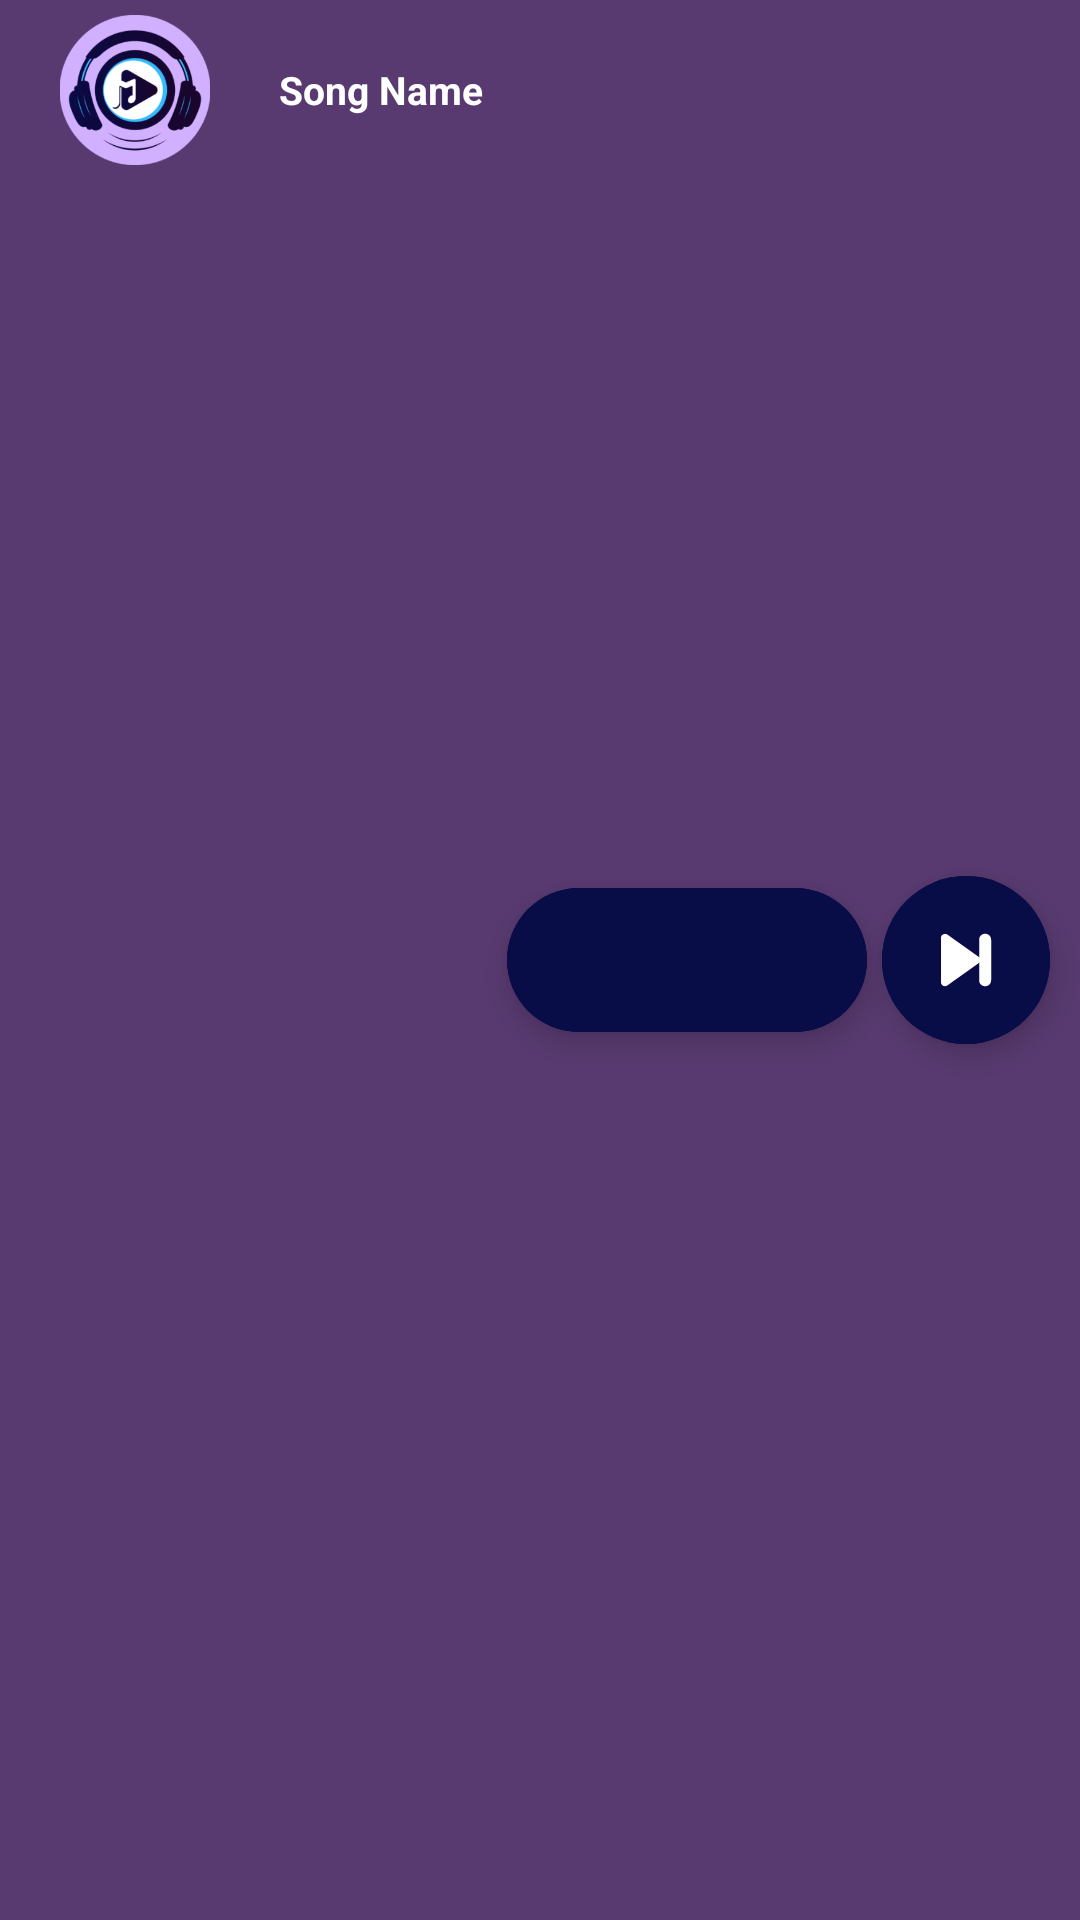

Named icons in this screenshot (1080 × 1920) and their bounding boxes, (x1, y1, x2, y2):
next: (882, 876, 1050, 1044)
